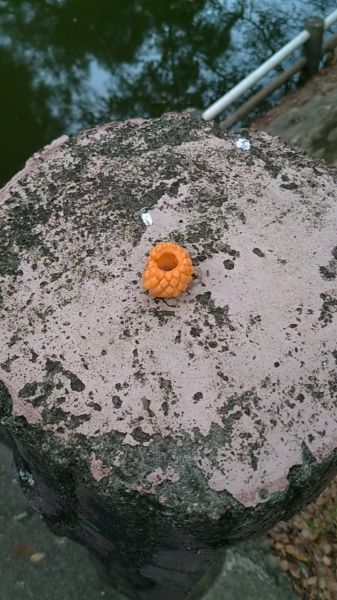eggs: (138, 240, 198, 302)
